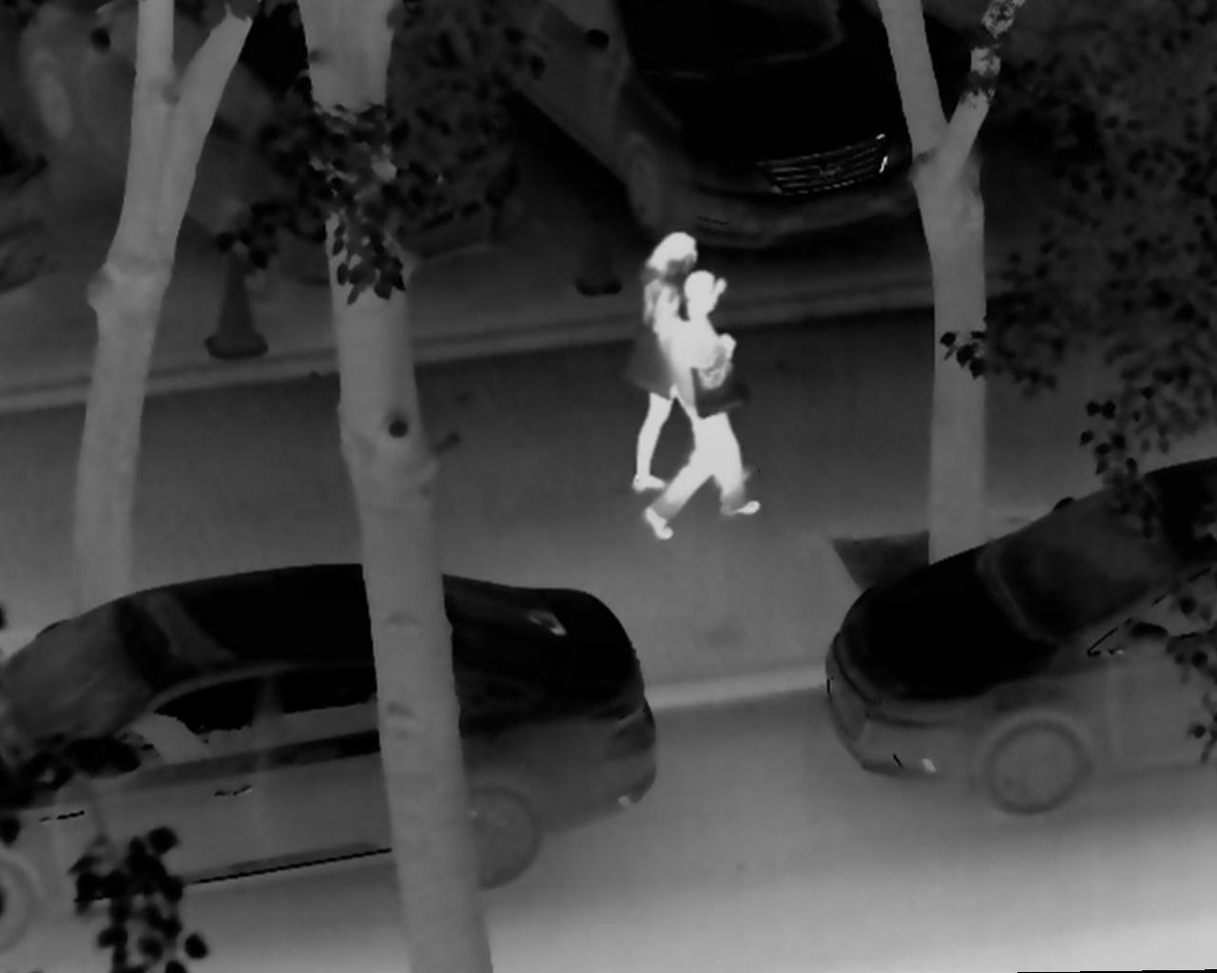person: (620, 233, 753, 493), (640, 271, 758, 542)
